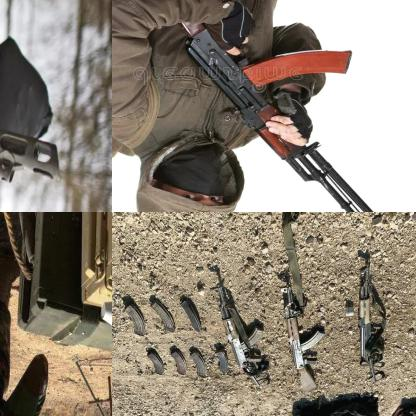rifle: (144, 0, 410, 211), (0, 0, 68, 187), (280, 280, 326, 393), (219, 284, 267, 374), (358, 258, 389, 386)
